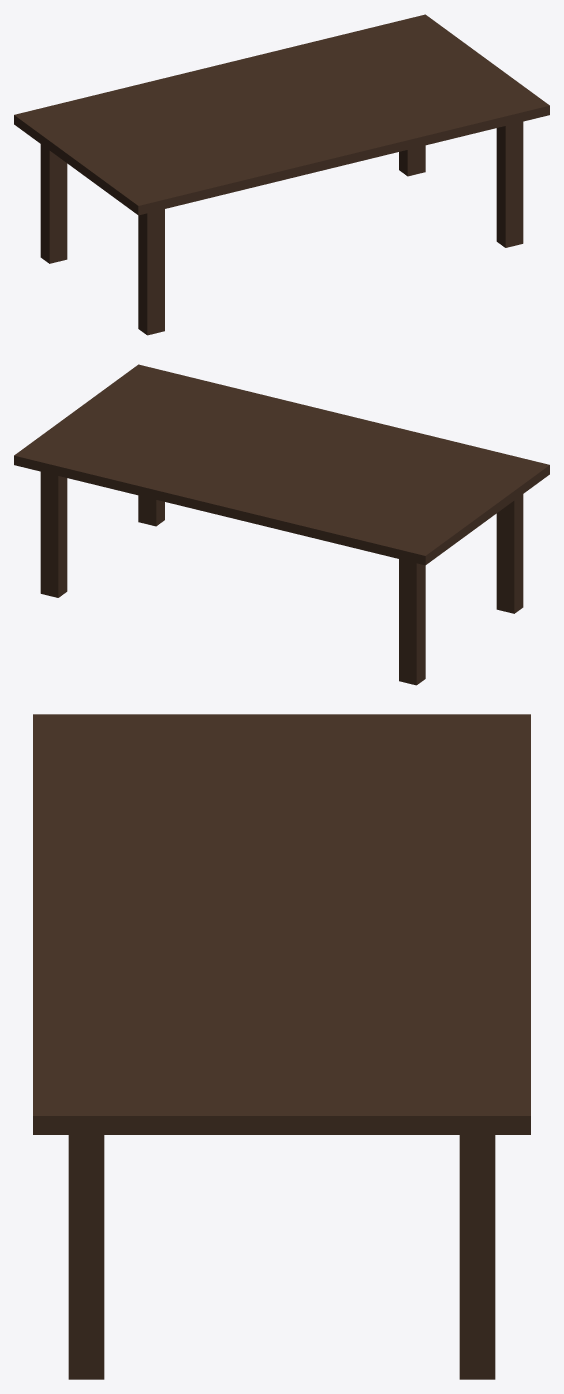
Rendered from table.fbx.
The picture shows the model from 3 angles, top to bottom: view 1: azimuth 30°, elevation 25°; view 2: azimuth 150°, elevation 25°; view 3: azimuth 270°, elevation 25°; orthographic projection. The views are drawn at different scales.
Parts seen in each view (by area): view 1: Cube; view 2: Cube; view 3: Cube.
Part boxes in pixels (x1,y1,x2,y2): Cube: (14,14,549,335); Cube: (14,364,549,685); Cube: (33,714,530,1379).
Size of the model in its own units: 736 by 385 by 240.
